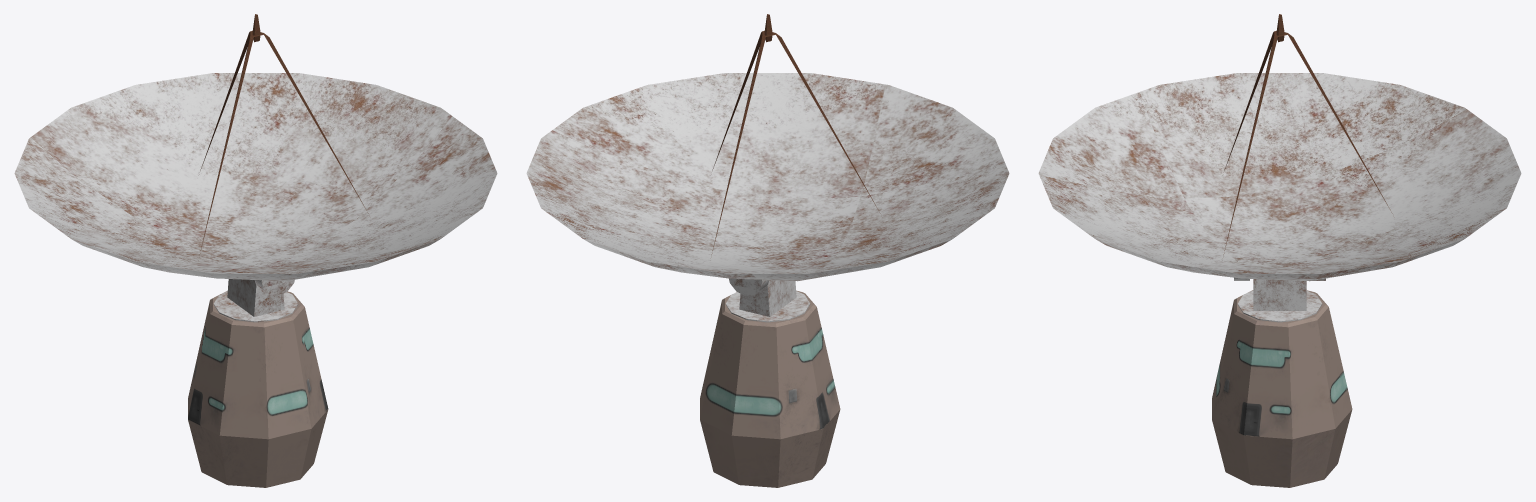
The model's file is Dish.fbx.
3 views of the same model, side by side, from view 1: azimuth 30°, elevation 25°; view 2: azimuth 150°, elevation 25°; view 3: azimuth 270°, elevation 25° (orthographic).
Parts seen in each view (by area): view 1: DishDish, Dish, DishHinge; view 2: DishDish, Dish, DishHinge; view 3: DishDish, Dish, DishHinge.
Boxes of the visible parts, x1,y1,x2,y2 form: DishDish: [14, 14, 497, 295]; Dish: [188, 291, 328, 487]; DishHinge: [213, 279, 298, 322]; DishDish: [526, 14, 1009, 295]; Dish: [700, 290, 840, 487]; DishHinge: [725, 280, 810, 322]; DishDish: [1038, 14, 1521, 281]; Dish: [1212, 290, 1352, 487]; DishHinge: [1237, 279, 1322, 322].
Bounding box in the file's own units: 80000 × 78785 × 82082.
Materials: 3 (3 with a texture image).
